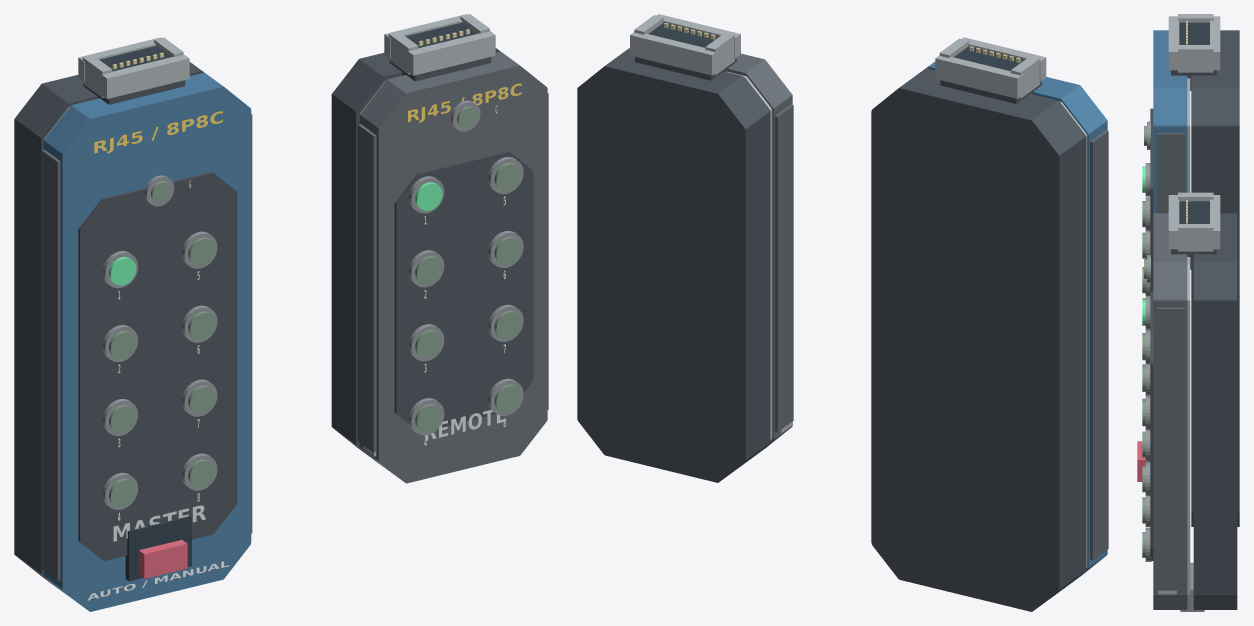
Rendered from tester.glb.
3 renders of one model, left to right at view 1: azimuth 30°, elevation 25°; view 2: azimuth 150°, elevation 25°; view 3: azimuth 270°, elevation 25°, orthographic. The views are drawn at different scales.
Visible parts, largest first — view 1: MAIN_Front_Window, MAIN_CASE_Top, REMOTE_CASE_Top, REMOTE_Front_Window, MAIN_CASE_Bottom, REMOTE_CASE_Bottom, MAIN_Grip_Edge_-1, REMOTE_Grip_Edge_-1, REMOTE_RJ45_TopFrame, MAIN_RJ45_TopFrame, MAIN_Switch_Track, MAIN_Switch_RED_Toggle (+7 smaller); view 2: MAIN_CASE_Bottom, REMOTE_CASE_Bottom, MAIN_Grip_Edge_-1, REMOTE_Grip_Edge_-1, MAIN_CASE_Top, REMOTE_CASE_Top, REMOTE_RJ45_BottomFrame, MAIN_RJ45_BottomFrame, REMOTE_CASE_Edge_Seam, MAIN_CASE_Edge_Seam, REMOTE_RJ45_Recess_Shadow, MAIN_RJ45_Recess_Shadow (+3 smaller); view 3: REMOTE_CASE_Bottom, MAIN_CASE_Bottom, REMOTE_Grip_Edge_1, REMOTE_CASE_Top, MAIN_CASE_Top, MAIN_Grip_Edge_1, REMOTE_CASE_Edge_Seam, REMOTE_Front_Window, MAIN_RJ45_SideWall_1, REMOTE_RJ45_SideWall_1, MAIN_Front_Window, MAIN_RJ45_Recess_Shadow (+22 smaller).
Part boxes in pixels (left/top/right/bottom): MAIN_Front_Window: left=78, top=172, right=237, bottom=560; MAIN_CASE_Top: left=43, top=72, right=251, bottom=611; REMOTE_CASE_Top: left=359, top=51, right=547, bottom=483; REMOTE_Front_Window: left=394, top=150, right=533, bottom=426; MAIN_CASE_Bottom: left=14, top=62, right=203, bottom=595; REMOTE_CASE_Bottom: left=331, top=48, right=500, bottom=466; MAIN_Grip_Edge_-1: left=41, top=149, right=60, bottom=580; REMOTE_Grip_Edge_-1: left=357, top=124, right=376, bottom=452; REMOTE_RJ45_TopFrame: left=407, top=31, right=495, bottom=75; MAIN_RJ45_TopFrame: left=101, top=54, right=189, bottom=98; MAIN_Switch_Track: left=125, top=515, right=191, bottom=581; MAIN_Switch_RED_Toggle: left=139, top=540, right=187, bottom=578; MAIN_CASE_Bottom: left=871, top=68, right=1086, bottom=611; REMOTE_CASE_Bottom: left=577, top=48, right=769, bottom=482; MAIN_Grip_Edge_-1: left=1090, top=130, right=1108, bottom=560; REMOTE_Grip_Edge_-1: left=774, top=104, right=793, bottom=432; MAIN_CASE_Top: left=926, top=62, right=1107, bottom=588; REMOTE_CASE_Top: left=727, top=53, right=792, bottom=461; REMOTE_RJ45_BottomFrame: left=630, top=32, right=717, bottom=75; MAIN_RJ45_BottomFrame: left=935, top=55, right=1022, bottom=98; REMOTE_CASE_Edge_Seam: left=727, top=71, right=772, bottom=440; MAIN_CASE_Edge_Seam: left=1060, top=101, right=1087, bottom=567; REMOTE_RJ45_Recess_Shadow: left=648, top=23, right=719, bottom=47; MAIN_RJ45_Recess_Shadow: left=954, top=46, right=1024, bottom=70; REMOTE_CASE_Bottom: left=1193, top=213, right=1237, bottom=609; MAIN_CASE_Bottom: left=1191, top=30, right=1239, bottom=526; REMOTE_Grip_Edge_1: left=1157, top=307, right=1185, bottom=590; REMOTE_CASE_Top: left=1153, top=213, right=1187, bottom=609; MAIN_CASE_Top: left=1153, top=30, right=1187, bottom=213; MAIN_Grip_Edge_1: left=1157, top=133, right=1185, bottom=213; REMOTE_CASE_Edge_Seam: left=1187, top=257, right=1190, bottom=607; REMOTE_Front_Window: left=1150, top=291, right=1153, bottom=560; MAIN_RJ45_SideWall_1: left=1178, top=45, right=1213, bottom=72; REMOTE_RJ45_SideWall_1: left=1178, top=224, right=1213, bottom=251; MAIN_Front_Window: left=1150, top=108, right=1153, bottom=291; MAIN_RJ45_Recess_Shadow: left=1179, top=22, right=1209, bottom=44.
Size of the model in its own units: 125 by 128 by 25.39.
34 materials, 23 textured.
